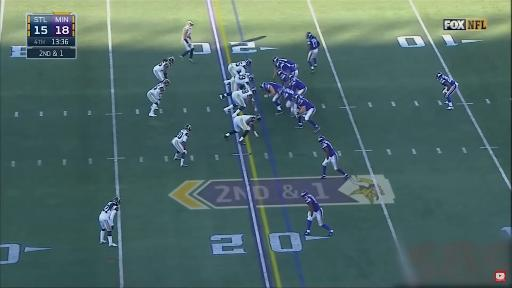Helmet: (113, 196, 121, 206), (166, 56, 175, 64), (300, 190, 308, 198), (185, 124, 192, 132), (318, 136, 326, 143), (435, 72, 443, 79), (245, 58, 252, 66), (187, 21, 194, 28), (163, 79, 170, 86), (306, 32, 312, 39), (251, 86, 257, 93), (293, 94, 298, 102), (273, 57, 279, 63), (260, 83, 266, 89), (256, 115, 261, 122), (288, 74, 294, 79), (278, 70, 283, 75), (250, 74, 254, 80)
Jersey: (232, 90, 252, 106), (100, 202, 118, 218), (305, 195, 321, 211), (321, 140, 336, 157), (296, 97, 314, 110), (290, 78, 306, 92), (229, 61, 246, 74), (278, 62, 296, 74), (279, 88, 295, 101), (264, 82, 282, 93), (175, 129, 189, 143), (151, 83, 165, 97), (234, 74, 249, 87), (154, 60, 170, 72), (277, 70, 289, 85), (239, 115, 255, 126), (276, 59, 297, 67), (308, 36, 319, 50), (440, 75, 455, 85), (182, 26, 191, 41)
Player: (301, 190, 333, 236), (318, 136, 349, 179), (220, 87, 257, 117), (99, 197, 121, 246), (224, 115, 261, 144), (295, 95, 319, 133), (147, 79, 170, 117), (171, 124, 191, 167), (436, 72, 458, 109), (260, 82, 282, 114), (180, 20, 194, 62), (278, 87, 297, 116), (153, 56, 174, 81), (224, 74, 254, 91), (307, 32, 319, 73), (227, 58, 252, 76), (275, 59, 298, 77), (290, 78, 306, 96), (272, 57, 298, 67), (277, 70, 290, 87)
